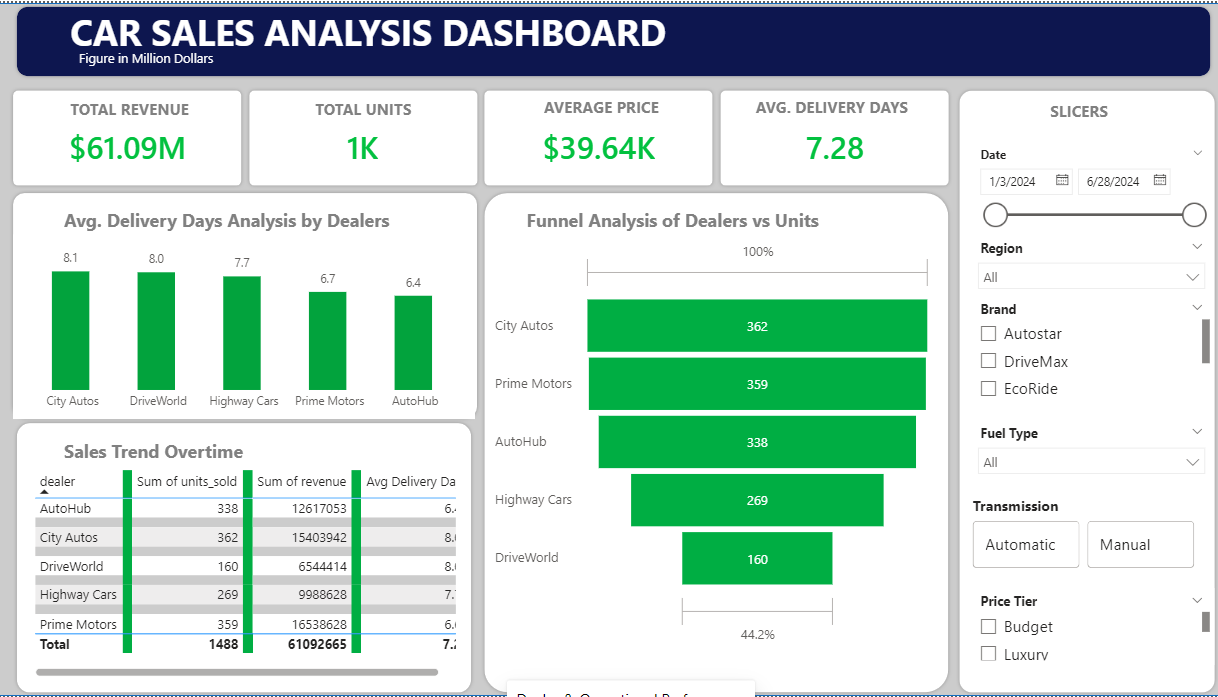

The page's visual inventory and layout, read from the dashboard file:
{"tool":"powerbi","page":{"name":"Dealer & Operational Performance","canvas":[1280,720],"ordinal":2},"visuals":[{"type":"shape","box":[0,0,1280,720],"z":0},{"type":"shape","box":[16,0,1248,80],"z":1000},{"type":"shape","box":[11.7,86.7,245,106.7],"z":2000},{"type":"shape","box":[256.7,86.7,245,106.7],"z":3000},{"type":"shape","box":[501.7,86.7,245,106.7],"z":4000},{"type":"shape","box":[746.7,86.7,245,106.7],"z":5000},{"type":"shape","box":[11.7,193.3,490,241.7],"z":6000},{"type":"shape","box":[501.7,193.3,490,526.7],"z":7000},{"type":"shape","box":[995,86.7,273.3,633.3],"z":8000},{"type":"shape","box":[16,432,480,288],"z":9000},{"type":"textbox","box":[70,93,152,40],"z":10000},{"type":"textbox","box":[325,93,152,40],"z":11000},{"type":"textbox","box":[562.8,92.3,152.6,41],"z":12000},{"type":"textbox","box":[778.2,92.3,197.4,41],"z":13000},{"type":"cardVisual","fields":{"Data":["car_sales_data.Total Revenue"]},"box":[22,108.8,225,77],"z":14000},{"type":"cardVisual","fields":{"Data":["car_sales_data.Total Units"]},"box":[266.6,108.8,225,77],"z":15000},{"type":"cardVisual","fields":{"Data":["car_sales_data.Avg Price"]},"box":[511.1,108.8,225,77],"z":16000},{"type":"cardVisual","fields":{"Data":["car_sales_data.Avg Delivery Days"]},"box":[756.9,108.8,225,77],"z":17000},{"type":"textbox","box":[69.7,0,687.2,66],"z":18000},{"type":"textbox","box":[79.5,42.8,199.3,34.2],"z":19000},{"type":"textbox","box":[64,208,400,48],"z":20000},{"type":"textbox","box":[544,208,368,48],"z":21000},{"type":"textbox","box":[64,448,256,48],"z":22000},{"type":"funnel","fields":{"Y":["car_sales_data.Total Units"],"Category":["car_sales_data.dealer"]},"box":[512,240,464,432],"z":23000},{"type":"tableEx","fields":{"Values":["car_sales_data.dealer","Sum(car_sales_data.units_sold)","Sum(car_sales_data.revenue)","car_sales_data.Avg Delivery Days"]},"box":[32,480,448,224],"z":24000},{"type":"columnChart","fields":{"Category":["car_sales_data.dealer"],"Y":["car_sales_data.Avg Delivery Days"]},"box":[16,240,480,192],"z":25000},{"type":"slicer","fields":{"Values":["car_sales_data.sale_date"]},"box":[1008,144,256,96],"z":26000},{"type":"slicer","fields":{"Values":["car_sales_data.region"]},"box":[1008,240,256,64],"z":27000},{"type":"slicer","fields":{"Values":["car_sales_data.brand"]},"box":[1008,304,256,112],"z":28000},{"type":"slicer","fields":{"Values":["car_sales_data.fuel_type"]},"box":[1008,432,256,80],"z":29000},{"type":"advancedSlicerVisual","title":"  Transmission","fields":{"Values":["car_sales_data.transmission"]},"box":[1008,512,240,80],"z":30000},{"type":"slicer","fields":{"Values":["car_sales_data.Price tier"]},"box":[1008,608,256,80],"z":31000},{"type":"textbox","box":[1088,96,144,32],"z":32000}]}

Visuals, with their boxes in screenshot pixels (x1, y1, x2, y2), scaled from the page's 1280x720 canvas onto the 1218x697 screenshot:
shape: 0/0/1217/696
shape: 15/0/1203/77
shape: 11/84/244/187
shape: 244/84/477/187
shape: 477/84/711/187
shape: 711/84/944/187
shape: 11/187/477/421
shape: 477/187/944/696
shape: 947/84/1207/696
shape: 15/418/472/696
textbox: 67/90/211/129
textbox: 309/90/454/129
textbox: 536/89/681/129
textbox: 741/89/928/129
cardVisual - car_sales_data.Total Revenue: 21/105/235/180
cardVisual - car_sales_data.Total Units: 254/105/468/180
cardVisual - car_sales_data.Avg Price: 486/105/700/180
cardVisual - car_sales_data.Avg Delivery Days: 720/105/934/180
textbox: 66/0/720/64
textbox: 76/41/265/75
textbox: 61/201/442/248
textbox: 518/201/868/248
textbox: 61/434/304/480
funnel - car_sales_data.Total Units x car_sales_data.dealer: 487/232/929/651
tableEx - car_sales_data.dealer x Sum(car_sales_data.units_sold): 30/465/457/682
columnChart - car_sales_data.dealer x car_sales_data.Avg Delivery Days: 15/232/472/418
slicer - car_sales_data.sale_date: 959/139/1203/232
slicer - car_sales_data.region: 959/232/1203/294
slicer - car_sales_data.brand: 959/294/1203/403
slicer - car_sales_data.fuel_type: 959/418/1203/496
"  Transmission" advancedSlicerVisual: 959/496/1188/573
slicer - car_sales_data.Price tier: 959/589/1203/666
textbox: 1035/93/1172/124
